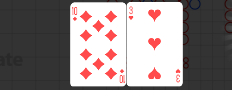10D: (71, 5, 78, 22)
3H: (174, 67, 181, 83)
